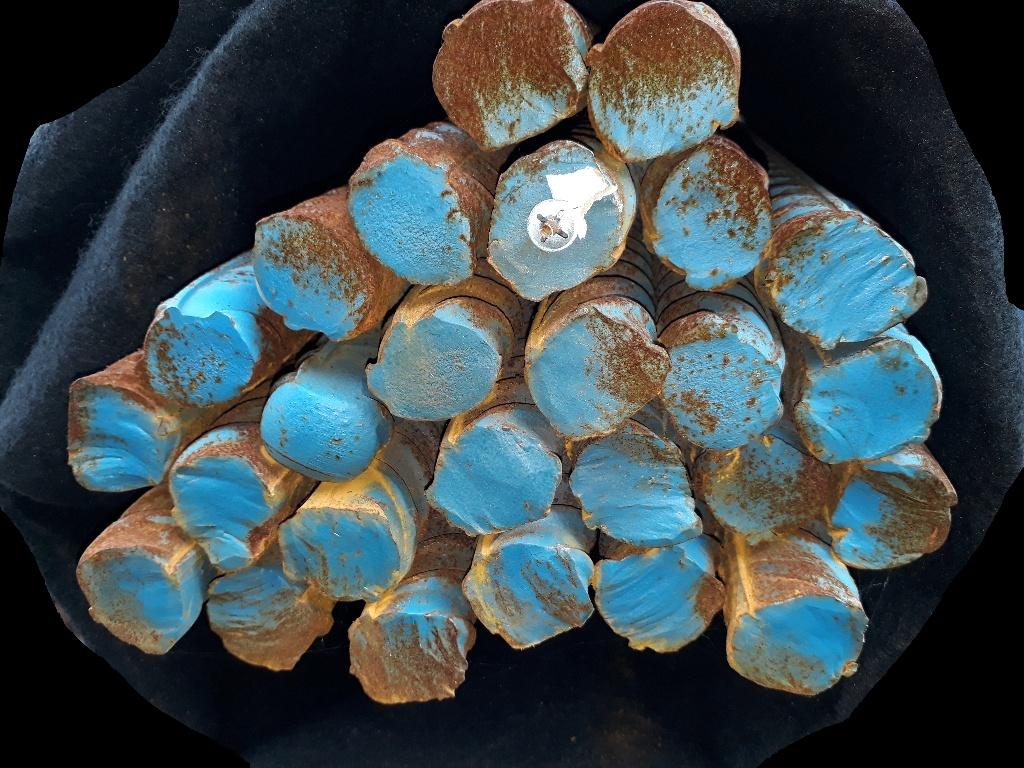dipstick: (592, 2, 739, 159), (433, 1, 584, 148), (490, 140, 621, 296), (771, 221, 927, 344), (797, 339, 941, 461), (527, 313, 666, 434), (349, 152, 476, 282), (654, 152, 767, 288), (569, 432, 697, 547), (728, 596, 868, 695), (466, 545, 594, 649), (255, 213, 362, 337), (428, 433, 560, 531), (372, 317, 496, 419), (596, 552, 722, 652), (210, 570, 333, 670), (835, 467, 954, 570), (700, 443, 825, 537), (263, 382, 377, 485), (667, 344, 784, 444), (78, 547, 183, 655), (67, 384, 166, 491), (278, 509, 398, 597), (349, 611, 465, 701), (174, 460, 274, 564), (146, 307, 255, 397)
